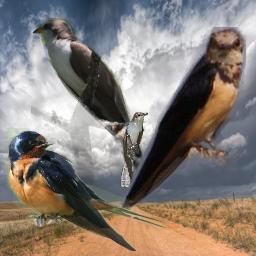Cuckoo: (31, 18, 157, 185), (120, 111, 148, 187)
Swallow: (119, 27, 246, 216), (6, 128, 168, 251)
